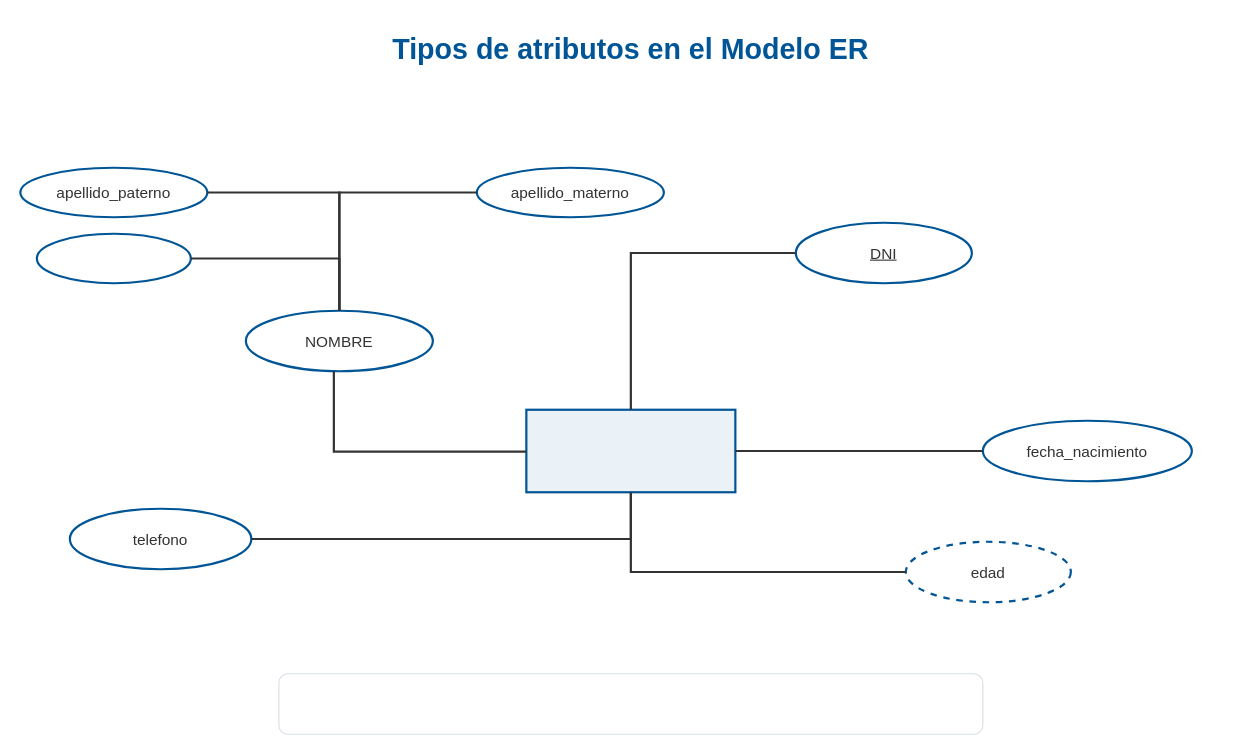
The diagram is 1243 pixels wide and 754 high, and some of its shapes have lost their labels. Here are the shapes that lost their labels. From the top down, the centre of each, then its label:
the point at 113,258: nombres
the point at 630,450: PERSONA
the point at 630,703: Clave: subrayado | Multivaluado: doble óvalo | Derivado: línea discontinua
